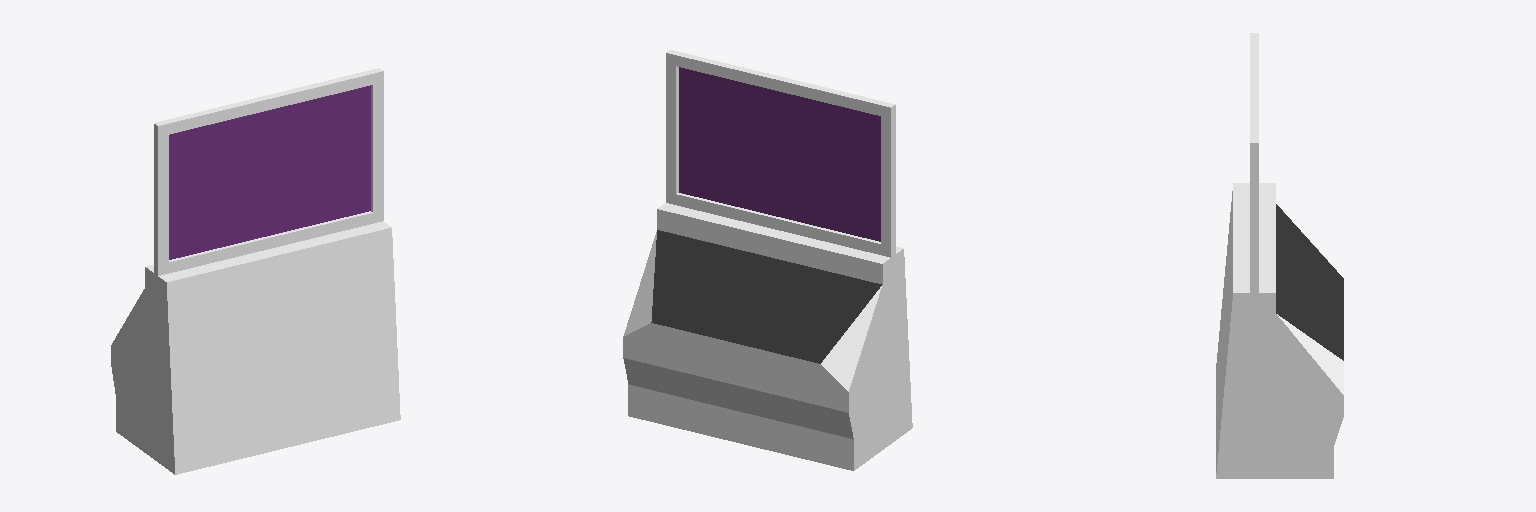
Rendered from consoleScreen.obj.
3 views of the same model, side by side, from view 1: azimuth 30°, elevation 25°; view 2: azimuth 150°, elevation 25°; view 3: azimuth 270°, elevation 25° (orthographic).
Parts seen in each view (by area): view 1: consoleScreen; view 2: consoleScreen; view 3: consoleScreen.
Boxes of the visible parts, x1=… form: consoleScreen: x1=111, y1=68, x2=400, y2=474; consoleScreen: x1=623, y1=50, x2=912, y2=470; consoleScreen: x1=1216, y1=33, x2=1343, y2=478.
Size of the model in its own units: 4.56 by 6.5 by 2.24.